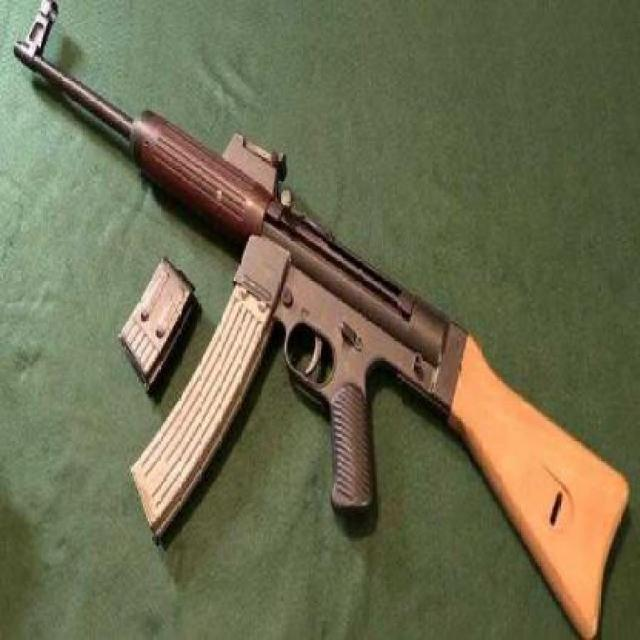weapon: (13, 0, 610, 640)
